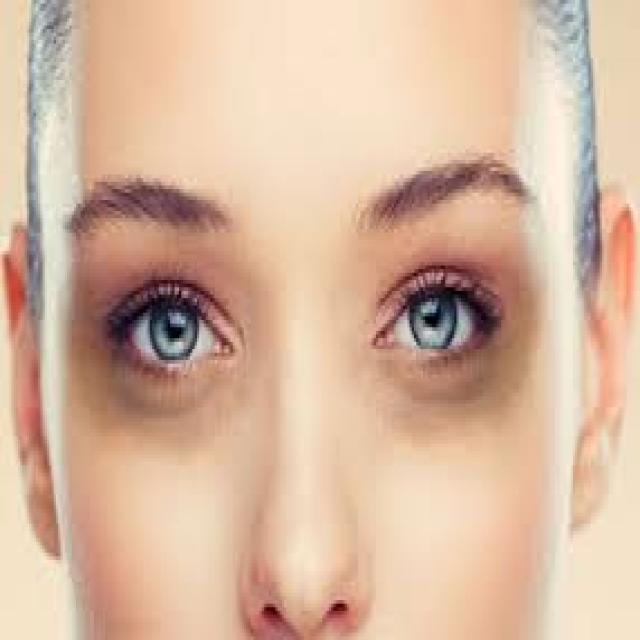moderate: (386, 355, 544, 434), (82, 363, 248, 438)
